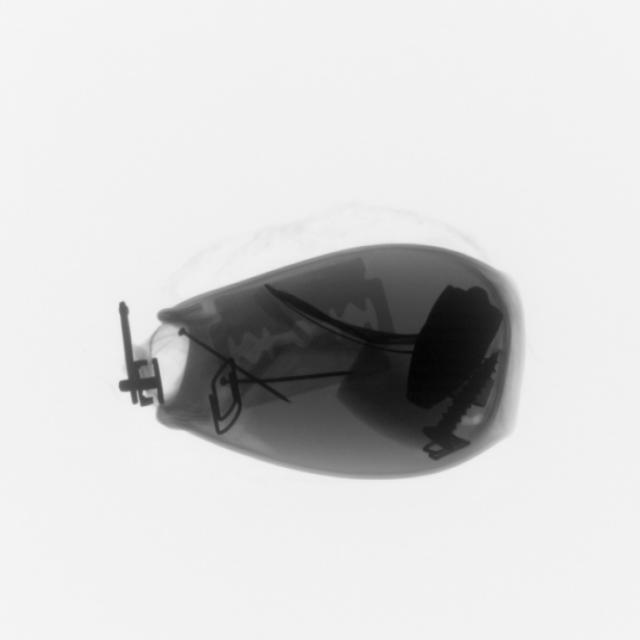GUN: (177, 247, 404, 420)
